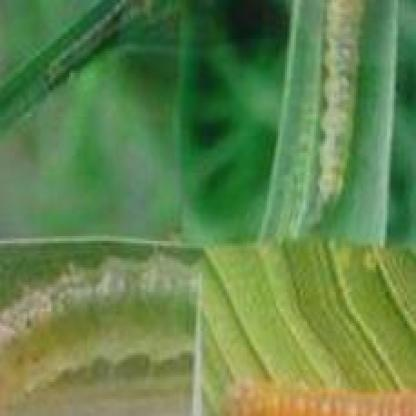leaf-folder: (0, 257, 197, 416), (269, 0, 365, 243), (0, 0, 161, 98), (212, 343, 416, 416)
